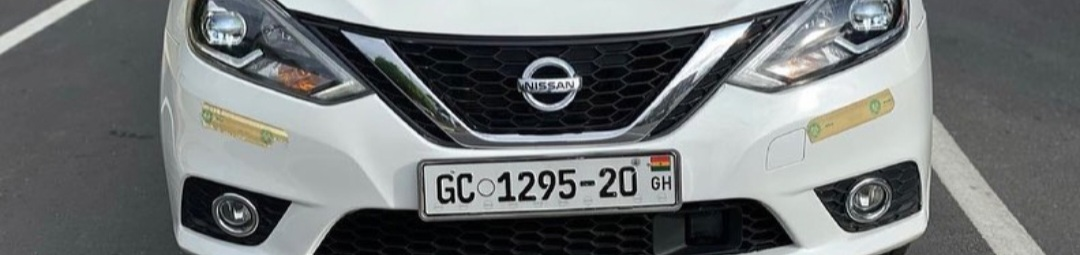number_ plates: (418, 148, 680, 223)
